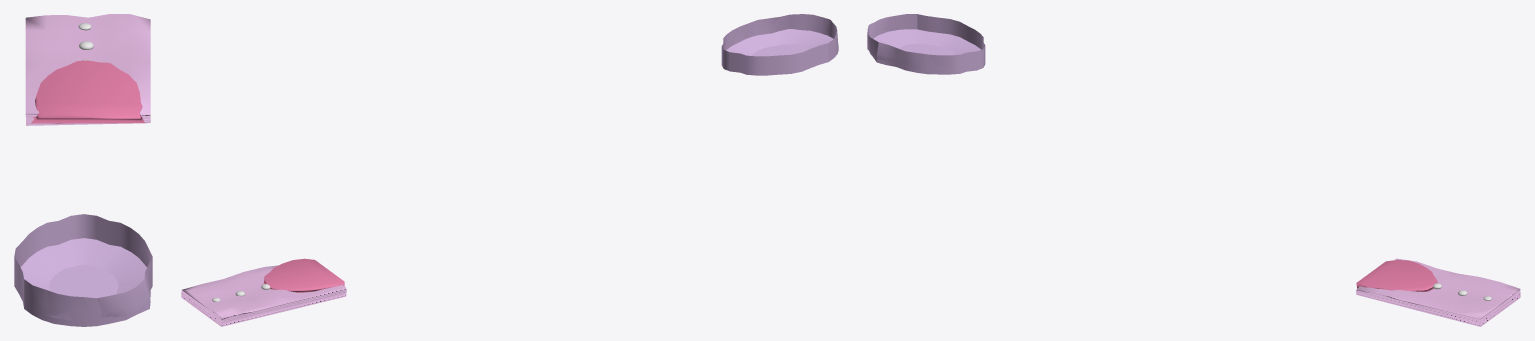
Rendered from yagmurluk.fbx.
The picture shows the model from 3 angles, left to right: view 1: azimuth 90°, elevation 25°; view 2: azimuth 210°, elevation 25°; view 3: azimuth 330°, elevation 25°; orthographic projection. The views are drawn at different scales.
Parts seen in each view (by area): view 1: Cylinder, Cube, Cylinder.002, Sphere.003; view 2: Cylinder, Cube, Cylinder.002; view 3: Cylinder, Cube, Cylinder.002.
Boxes of the visible parts, x1,y1,x2,y2 form: Cylinder: (14, 214, 152, 326); Cube: (25, 14, 150, 125); Cylinder.002: (31, 60, 144, 123); Sphere.003: (79, 41, 93, 49); Cylinder: (721, 14, 838, 75); Cube: (181, 265, 346, 326); Cylinder.002: (263, 258, 344, 292); Cylinder: (867, 14, 985, 74); Cube: (1356, 258, 1520, 326); Cylinder.002: (1356, 260, 1437, 291).
Size of the model in its own units: 1016 by 210 by 124.
